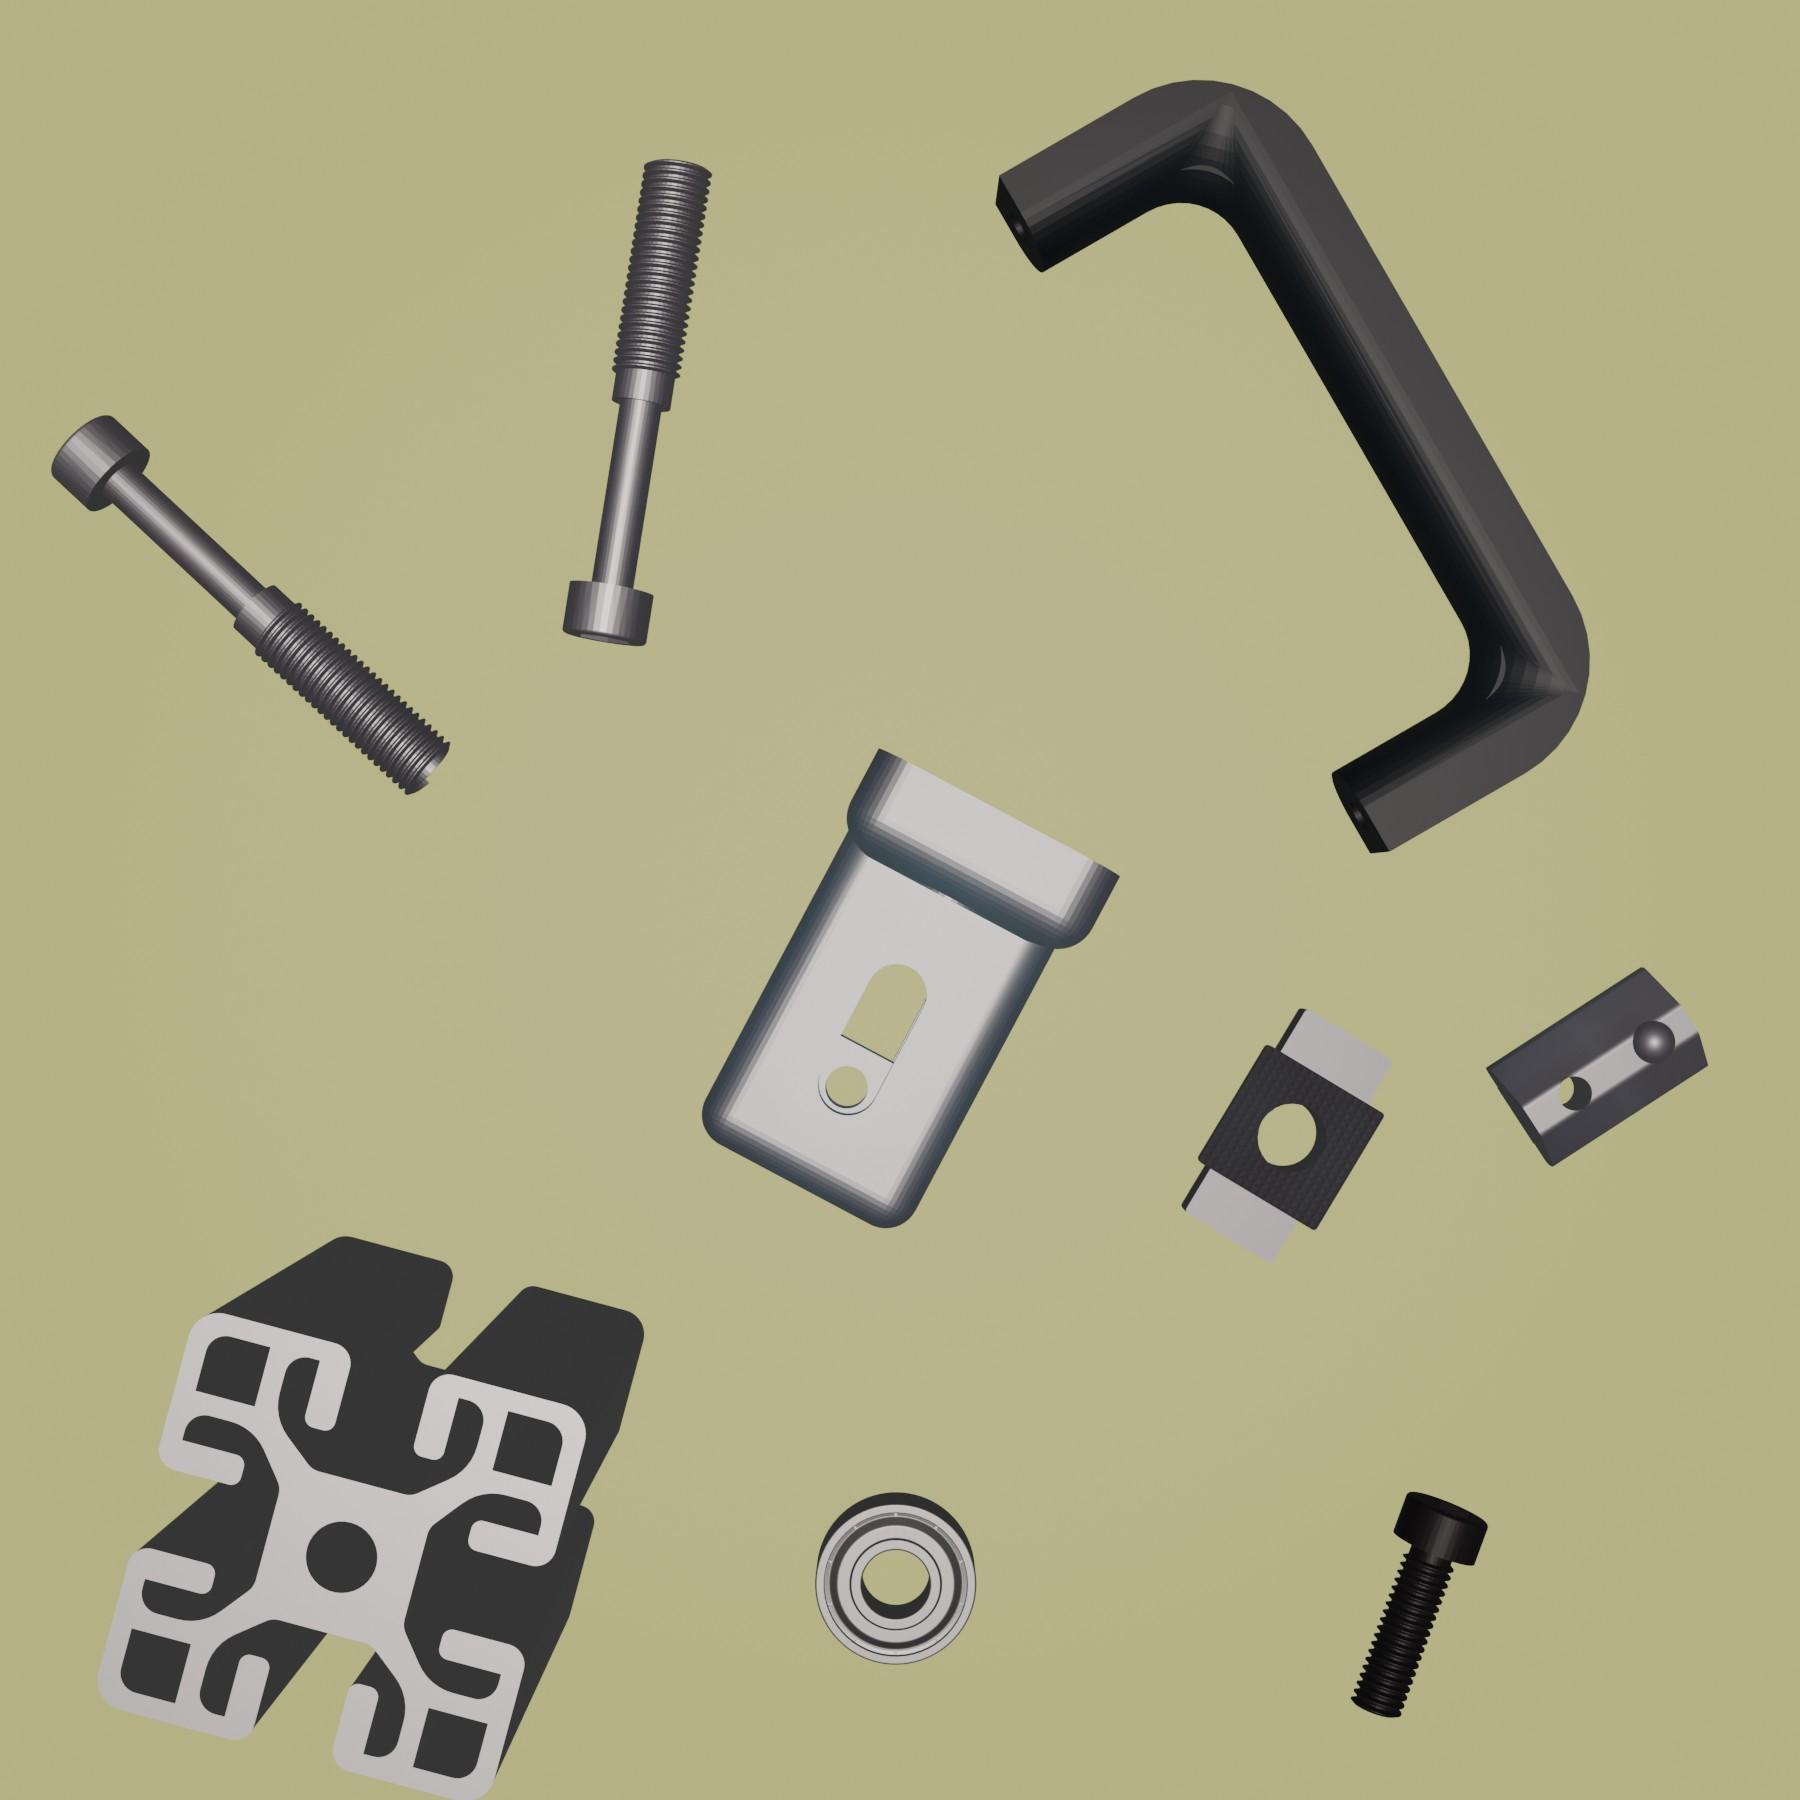Aluminium Extension: (92, 1235, 648, 1800)
Ball Bearing: (813, 1488, 979, 1666)
Multiwinkel: (701, 747, 1123, 1231)
Pull Handle: (992, 77, 1592, 855)
Shoulder Socket Head Cap Screw: (49, 414, 452, 798), (560, 155, 715, 649)
Socket Head Cap Screw: (1348, 1488, 1490, 1723)
T Nut Square: (1179, 1005, 1390, 1264)
T Spring Nut: (1484, 964, 1713, 1169)
